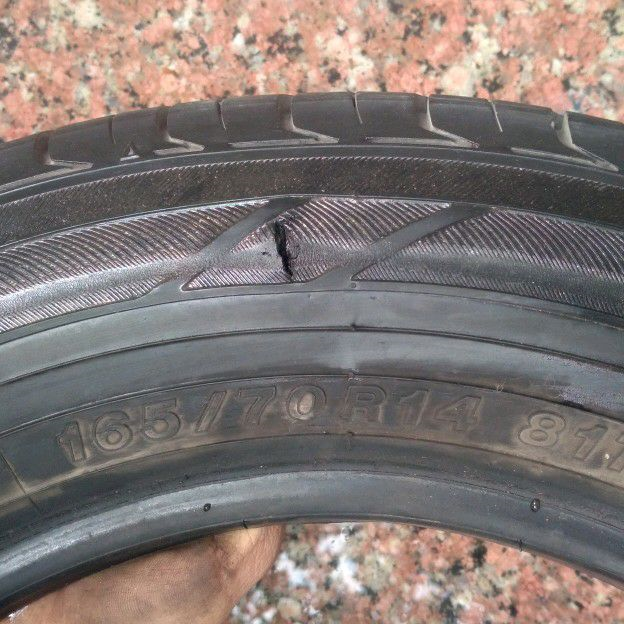cut: (273, 224, 297, 281)
